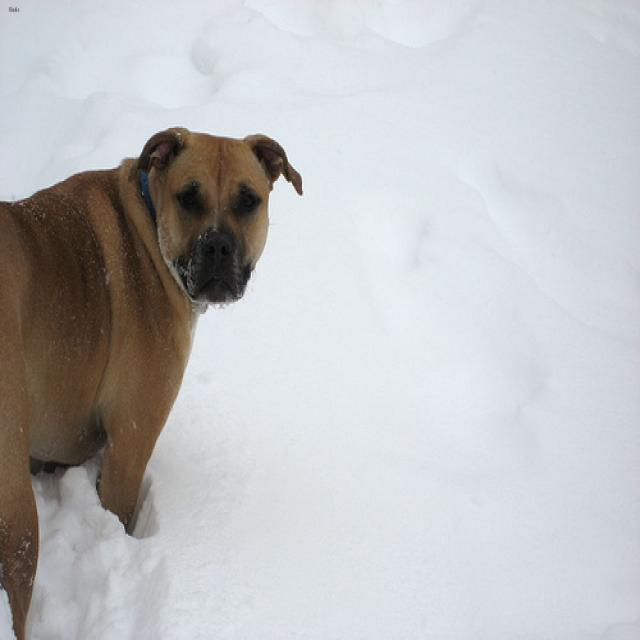dog-american_pit_bull_terrier: (1, 119, 315, 637)
